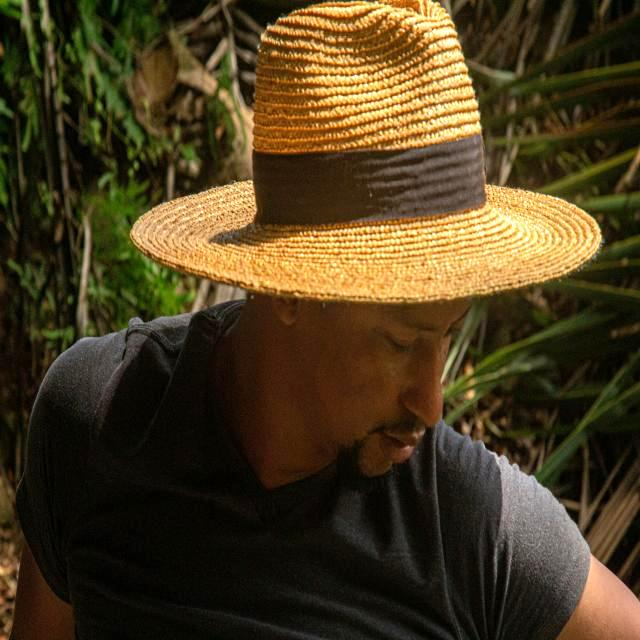no_hard_hat: (131, 0, 602, 303)
person: (12, 0, 640, 639)
